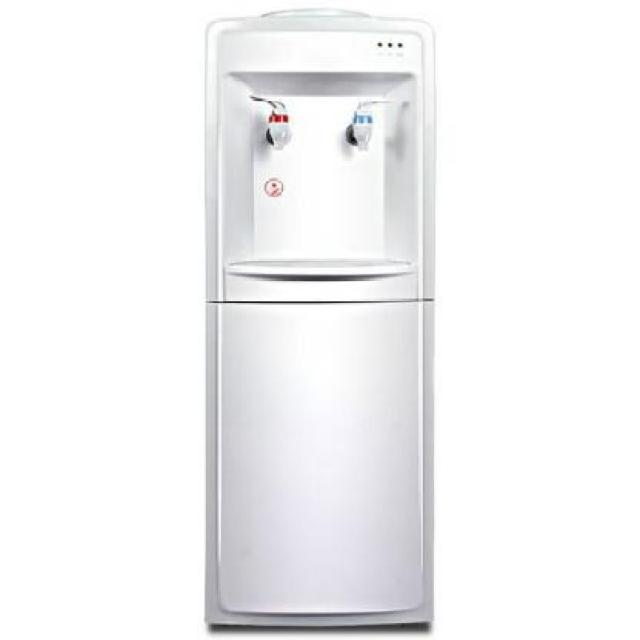cooler: (203, 6, 439, 635)
